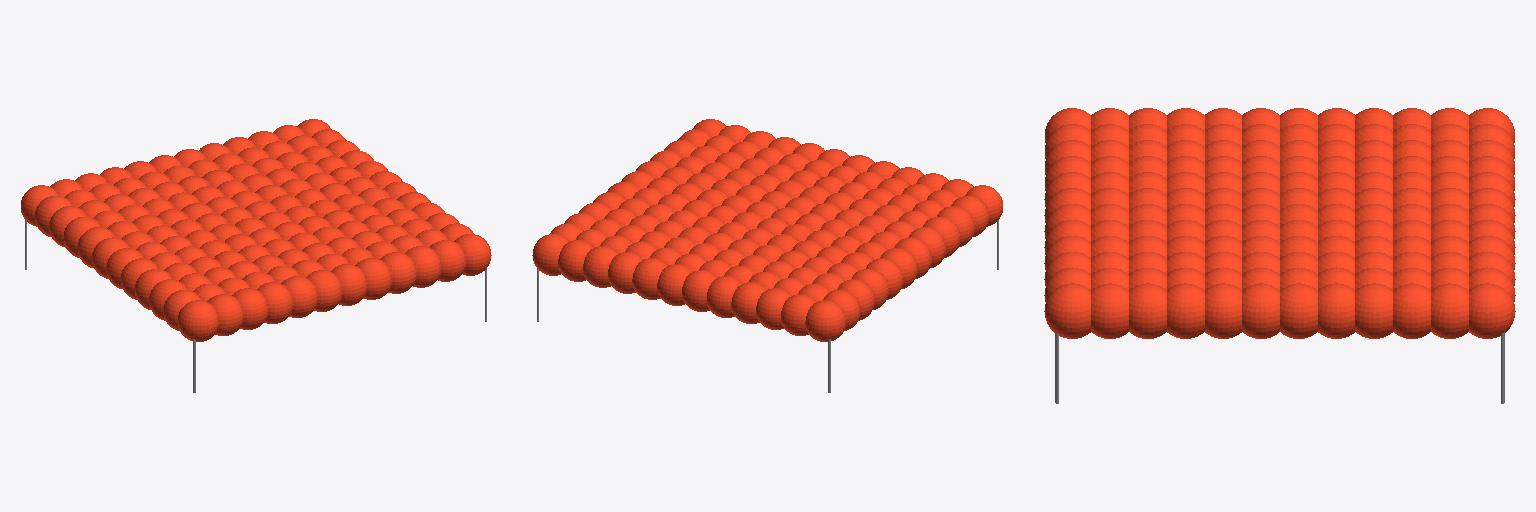
--- Render facts (derived) ---
3 views of the same robot in one strip: view 1: azimuth 30°, elevation 25°; view 2: azimuth 150°, elevation 25°; view 3: azimuth 270°, elevation 25° (orthographic).
Model box with 3 links and 2 joints (2 fixed), rooted at link1, posed every joint at zero.
Links seen in each view (by area): view 1: link3; view 2: link3; view 3: link3, link2.
Link boxes in pixels (x1=…): link3: x1=21, y1=119, x2=491, y2=341; link3: x1=532, y1=119, x2=1002, y2=341; link3: x1=1044, y1=108, x2=1515, y2=338; link2: x1=1055, y1=332, x2=1504, y2=403.
Size in the robot's own frame: 1.25 by 1.25 by 0.324 metres.
Geometry: primitives only (box / cylinder / sphere), no mesh files.

robot.urdf — box:
<?xml version="1.0" ?>
<robot name="box">

    <material name="panda_white">
        <color rgba="1. 0.87 0.68 1."/>
    </material>

    <material name="metal">
        <color rgba="0.6 0.6 0.6 1."/>
    </material>

    <material name="orangered">
        <color rgba="1 0.34 0.2 0.5"/>
    </material>


    <link name="link1">
        <inertial>
            <origin rpy="0 0 0" xyz="0 0 0"/>
            <mass value=".0"/>
            <inertia ixx="0" ixy="0" ixz="0" iyy="0" iyz="0" izz="0"/>
        </inertial>

        <visual>
            <origin rpy="0 0 0" xyz="0.0 0 0.25"/>
            <geometry>
                <box size="1.2 1.2 0.005"/>
            </geometry>
            <material name="panda_white"/>
        </visual>
    </link>

    <link name="link2">
        <inertial>
            <origin rpy="0 0 0" xyz="0 0 0"/>
            <mass value=".0"/>
            <inertia ixx="0" ixy="0" ixz="0" iyy="0" iyz="0" izz="0"/>
        </inertial>

        <visual>
            <origin rpy="0 0 0" xyz="0.59 0.59 0.125"/>
            <geometry>
                <cylinder radius="0.005" length="0.25"/>
            </geometry>
            <material name="metal"/>
        </visual>

        <visual>
            <origin rpy="0 0 0" xyz="0.59 -0.59 0.125"/>
            <geometry>
                <cylinder radius="0.005" length="0.25"/>
            </geometry>
            <material name="metal"/>
        </visual>

        <visual>
            <origin rpy="0 0 0" xyz="-0.59 0.59 0.125"/>
            <geometry>
                <cylinder radius="0.005" length="0.25"/>
            </geometry>
            <material name="metal"/>
        </visual>

        <visual>
            <origin rpy="0 0 0" xyz="-0.59 -0.59 0.125"/>
            <geometry>
                <cylinder radius="0.005" length="0.25"/>
            </geometry>
            <material name="metal"/>
        </visual>

    </link>
    

    <link name="link3">
        <inertial>
            <origin rpy="0 0 0" xyz="0 0 0"/>
            <mass value=".0"/>
            <inertia ixx="0" ixy="0" ixz="0" iyy="0" iyz="0" izz="0"/>
        </inertial>

        <visual>
            <origin rpy="0 0 0" xyz="-0.55 -0.55 0.25"/>
            <geometry>
                <sphere radius="0.074"/>
            </geometry>
            <material name="orangered"/>
        </visual>

        <visual>
            <origin rpy="0 0 0" xyz="-0.45 -0.55 0.25"/>
            <geometry>
                <sphere radius="0.074"/>
            </geometry>
            <material name="orangered"/>
        </visual>

        <visual>
            <origin rpy="0 0 0" xyz="-0.35 -0.55 0.25"/>
            <geometry>
                <sphere radius="0.074"/>
            </geometry>
            <material name="orangered"/>
        </visual>

        <visual>
            <origin rpy="0 0 0" xyz="-0.25 -0.55 0.25"/>
            <geometry>
                <sphere radius="0.074"/>
            </geometry>
            <material name="orangered"/>
        </visual>

        <visual>
            <origin rpy="0 0 0" xyz="-0.15 -0.55 0.25"/>
            <geometry>
                <sphere radius="0.074"/>
            </geometry>
            <material name="orangered"/>
        </visual>

        <visual>
            <origin rpy="0 0 0" xyz="-0.05 -0.55 0.25"/>
            <geometry>
                <sphere radius="0.074"/>
            </geometry>
            <material name="orangered"/>
        </visual>

        <visual>
            <origin rpy="0 0 0" xyz="0.05 -0.55 0.25"/>
            <geometry>
                <sphere radius="0.074"/>
            </geometry>
            <material name="orangered"/>
        </visual>

        <visual>
            <origin rpy="0 0 0" xyz="0.15 -0.55 0.25"/>
            <geometry>
                <sphere radius="0.074"/>
            </geometry>
            <material name="orangered"/>
        </visual>

        <visual>
            <origin rpy="0 0 0" xyz="0.25 -0.55 0.25"/>
            <geometry>
                <sphere radius="0.074"/>
            </geometry>
            <material name="orangered"/>
        </visual>

        <visual>
            <origin rpy="0 0 0" xyz="0.35 -0.55 0.25"/>
            <geometry>
                <sphere radius="0.074"/>
            </geometry>
            <material name="orangered"/>
        </visual>

        <visual>
            <origin rpy="0 0 0" xyz="0.45 -0.55 0.25"/>
            <geometry>
                <sphere radius="0.074"/>
            </geometry>
            <material name="orangered"/>
        </visual>

        <visual>
            <origin rpy="0 0 0" xyz="0.55 -0.55 0.25"/>
            <geometry>
                <sphere radius="0.074"/>
            </geometry>
            <material name="orangered"/>
        </visual>

        <visual>
            <origin rpy="0 0 0" xyz="-0.55 -0.45 0.25"/>
            <geometry>
                <sphere radius="0.074"/>
            </geometry>
            <material name="orangered"/>
        </visual>

        <visual>
            <origin rpy="0 0 0" xyz="-0.45 -0.45 0.25"/>
            <geometry>
                <sphere radius="0.074"/>
            </geometry>
            <material name="orangered"/>
        </visual>

        <visual>
            <origin rpy="0 0 0" xyz="-0.35 -0.45 0.25"/>
            <geometry>
                <sphere radius="0.074"/>
            </geometry>
            <material name="orangered"/>
        </visual>

        <visual>
            <origin rpy="0 0 0" xyz="-0.25 -0.45 0.25"/>
            <geometry>
                <sphere radius="0.074"/>
            </geometry>
            <material name="orangered"/>
        </visual>

        <visual>
            <origin rpy="0 0 0" xyz="-0.15 -0.45 0.25"/>
            <geometry>
                <sphere radius="0.074"/>
            </geometry>
            <material name="orangered"/>
        </visual>

        <visual>
            <origin rpy="0 0 0" xyz="-0.05 -0.45 0.25"/>
            <geometry>
                <sphere radius="0.074"/>
            </geometry>
            <material name="orangered"/>
        </visual>

        <visual>
            <origin rpy="0 0 0" xyz="0.05 -0.45 0.25"/>
            <geometry>
                <sphere radius="0.074"/>
            </geometry>
            <material name="orangered"/>
        </visual>

        <visual>
            <origin rpy="0 0 0" xyz="0.15 -0.45 0.25"/>
            <geometry>
                <sphere radius="0.074"/>
            </geometry>
            <material name="orangered"/>
        </visual>

        <visual>
            <origin rpy="0 0 0" xyz="0.25 -0.45 0.25"/>
            <geometry>
                <sphere radius="0.074"/>
            </geometry>
            <material name="orangered"/>
        </visual>

        <visual>
            <origin rpy="0 0 0" xyz="0.35 -0.45 0.25"/>
            <geometry>
                <sphere radius="0.074"/>
            </geometry>
            <material name="orangered"/>
        </visual>

        <visual>
            <origin rpy="0 0 0" xyz="0.45 -0.45 0.25"/>
            <geometry>
                <sphere radius="0.074"/>
            </geometry>
            <material name="orangered"/>
        </visual>

        <visual>
            <origin rpy="0 0 0" xyz="0.55 -0.45 0.25"/>
            <geometry>
                <sphere radius="0.074"/>
            </geometry>
            <material name="orangered"/>
        </visual>

        <visual>
            <origin rpy="0 0 0" xyz="-0.55 -0.35 0.25"/>
            <geometry>
                <sphere radius="0.074"/>
            </geometry>
            <material name="orangered"/>
        </visual>

        <visual>
            <origin rpy="0 0 0" xyz="-0.45 -0.35 0.25"/>
            <geometry>
                <sphere radius="0.074"/>
            </geometry>
            <material name="orangered"/>
        </visual>

        <visual>
            <origin rpy="0 0 0" xyz="-0.35 -0.35 0.25"/>
            <geometry>
                <sphere radius="0.074"/>
            </geometry>
            <material name="orangered"/>
        </visual>

        <visual>
            <origin rpy="0 0 0" xyz="-0.25 -0.35 0.25"/>
            <geometry>
                <sphere radius="0.074"/>
            </geometry>
            <material name="orangered"/>
        </visual>

        <visual>
            <origin rpy="0 0 0" xyz="-0.15 -0.35 0.25"/>
            <geometry>
                <sphere radius="0.074"/>
            </geometry>
            <material name="orangered"/>
        </visual>

        <visual>
            <origin rpy="0 0 0" xyz="-0.05 -0.35 0.25"/>
            <geometry>
                <sphere radius="0.074"/>
            </geometry>
            <material name="orangered"/>
        </visual>

        <visual>
            <origin rpy="0 0 0" xyz="0.05 -0.35 0.25"/>
            <geometry>
                <sphere radius="0.074"/>
            </geometry>
            <material name="orangered"/>
        </visual>

        <visual>
            <origin rpy="0 0 0" xyz="0.15 -0.35 0.25"/>
            <geometry>
                <sphere radius="0.074"/>
            </geometry>
            <material name="orangered"/>
        </visual>

        <visual>
            <origin rpy="0 0 0" xyz="0.25 -0.35 0.25"/>
            <geometry>
                <sphere radius="0.074"/>
            </geometry>
            <material name="orangered"/>
        </visual>

        <visual>
            <origin rpy="0 0 0" xyz="0.35 -0.35 0.25"/>
            <geometry>
                <sphere radius="0.074"/>
            </geometry>
            <material name="orangered"/>
        </visual>

        <visual>
            <origin rpy="0 0 0" xyz="0.45 -0.35 0.25"/>
            <geometry>
                <sphere radius="0.074"/>
            </geometry>
            <material name="orangered"/>
        </visual>

        <visual>
            <origin rpy="0 0 0" xyz="0.55 -0.35 0.25"/>
            <geometry>
                <sphere radius="0.074"/>
            </geometry>
            <material name="orangered"/>
        </visual>

        <visual>
            <origin rpy="0 0 0" xyz="-0.55 -0.25 0.25"/>
            <geometry>
                <sphere radius="0.074"/>
            </geometry>
            <material name="orangered"/>
        </visual>

        <visual>
            <origin rpy="0 0 0" xyz="-0.45 -0.25 0.25"/>
            <geometry>
                <sphere radius="0.074"/>
            </geometry>
            <material name="orangered"/>
        </visual>

        <visual>
            <origin rpy="0 0 0" xyz="-0.35 -0.25 0.25"/>
            <geometry>
                <sphere radius="0.074"/>
            </geometry>
            <material name="orangered"/>
        </visual>

        <visual>
            <origin rpy="0 0 0" xyz="-0.25 -0.25 0.25"/>
            <geometry>
                <sphere radius="0.074"/>
            </geometry>
            <material name="orangered"/>
        </visual>

        <visual>
            <origin rpy="0 0 0" xyz="-0.15 -0.25 0.25"/>
            <geometry>
                <sphere radius="0.074"/>
            </geometry>
            <material name="orangered"/>
        </visual>

        <visual>
            <origin rpy="0 0 0" xyz="-0.05 -0.25 0.25"/>
            <geometry>
                <sphere radius="0.074"/>
            </geometry>
            <material name="orangered"/>
        </visual>

        <visual>
            <origin rpy="0 0 0" xyz="0.05 -0.25 0.25"/>
            <geometry>
                <sphere radius="0.074"/>
            </geometry>
            <material name="orangered"/>
        </visual>

        <visual>
            <origin rpy="0 0 0" xyz="0.15 -0.25 0.25"/>
            <geometry>
                <sphere radius="0.074"/>
            </geometry>
            <material name="orangered"/>
        </visual>

        <visual>
            <origin rpy="0 0 0" xyz="0.25 -0.25 0.25"/>
            <geometry>
                <sphere radius="0.074"/>
            </geometry>
            <material name="orangered"/>
        </visual>

        <visual>
            <origin rpy="0 0 0" xyz="0.35 -0.25 0.25"/>
            <geometry>
                <sphere radius="0.074"/>
            </geometry>
            <material name="orangered"/>
        </visual>

        <visual>
            <origin rpy="0 0 0" xyz="0.45 -0.25 0.25"/>
            <geometry>
                <sphere radius="0.074"/>
            </geometry>
            <material name="orangered"/>
        </visual>

        <visual>
            <origin rpy="0 0 0" xyz="0.55 -0.25 0.25"/>
            <geometry>
                <sphere radius="0.074"/>
            </geometry>
            <material name="orangered"/>
        </visual>

        <visual>
            <origin rpy="0 0 0" xyz="-0.55 -0.15 0.25"/>
            <geometry>
                <sphere radius="0.074"/>
            </geometry>
            <material name="orangered"/>
        </visual>

        <visual>
            <origin rpy="0 0 0" xyz="-0.45 -0.15 0.25"/>
            <geometry>
                <sphere radius="0.074"/>
            </geometry>
            <material name="orangered"/>
        </visual>

        <visual>
            <origin rpy="0 0 0" xyz="-0.35 -0.15 0.25"/>
            <geometry>
                <sphere radius="0.074"/>
            </geometry>
            <material name="orangered"/>
        </visual>

        <visual>
            <origin rpy="0 0 0" xyz="-0.25 -0.15 0.25"/>
            <geometry>
                <sphere radius="0.074"/>
            </geometry>
            <material name="orangered"/>
        </visual>

        <visual>
            <origin rpy="0 0 0" xyz="-0.15 -0.15 0.25"/>
            <geometry>
                <sphere radius="0.074"/>
            </geometry>
            <material name="orangered"/>
        </visual>

        <visual>
            <origin rpy="0 0 0" xyz="-0.05 -0.15 0.25"/>
            <geometry>
                <sphere radius="0.074"/>
            </geometry>
            <material name="orangered"/>
        </visual>

        <visual>
            <origin rpy="0 0 0" xyz="0.05 -0.15 0.25"/>
            <geometry>
                <sphere radius="0.074"/>
            </geometry>
            <material name="orangered"/>
        </visual>

        <visual>
            <origin rpy="0 0 0" xyz="0.15 -0.15 0.25"/>
            <geometry>
                <sphere radius="0.074"/>
            </geometry>
            <material name="orangered"/>
        </visual>

        <visual>
            <origin rpy="0 0 0" xyz="0.25 -0.15 0.25"/>
            <geometry>
                <sphere radius="0.074"/>
            </geometry>
            <material name="orangered"/>
        </visual>

        <visual>
            <origin rpy="0 0 0" xyz="0.35 -0.15 0.25"/>
            <geometry>
                <sphere radius="0.074"/>
            </geometry>
            <material name="orangered"/>
        </visual>

        <visual>
            <origin rpy="0 0 0" xyz="0.45 -0.15 0.25"/>
            <geometry>
                <sphere radius="0.074"/>
            </geometry>
            <material name="orangered"/>
        </visual>

        <visual>
            <origin rpy="0 0 0" xyz="0.55 -0.15 0.25"/>
            <geometry>
                <sphere radius="0.074"/>
            </geometry>
            <material name="orangered"/>
        </visual>

        <visual>
            <origin rpy="0 0 0" xyz="-0.55 -0.05 0.25"/>
            <geometry>
                <sphere radius="0.074"/>
            </geometry>
            <material name="orangered"/>
        </visual>

        <visual>
            <origin rpy="0 0 0" xyz="-0.45 -0.05 0.25"/>
            <geometry>
                <sphere radius="0.074"/>
            </geometry>
            <material name="orangered"/>
        </visual>

        <visual>
            <origin rpy="0 0 0" xyz="-0.35 -0.05 0.25"/>
            <geometry>
                <sphere radius="0.074"/>
            </geometry>
            <material name="orangered"/>
        </visual>

        <visual>
            <origin rpy="0 0 0" xyz="-0.25 -0.05 0.25"/>
            <geometry>
                <sphere radius="0.074"/>
            </geometry>
            <material name="orangered"/>
        </visual>

        <visual>
            <origin rpy="0 0 0" xyz="-0.15 -0.05 0.25"/>
            <geometry>
                <sphere radius="0.074"/>
            </geometry>
            <material name="orangered"/>
        </visual>

        <visual>
            <origin rpy="0 0 0" xyz="-0.05 -0.05 0.25"/>
            <geometry>
                <sphere radius="0.074"/>
            </geometry>
            <material name="orangered"/>
        </visual>

        <visual>
            <origin rpy="0 0 0" xyz="0.05 -0.05 0.25"/>
            <geometry>
                <sphere radius="0.074"/>
            </geometry>
            <material name="orangered"/>
        </visual>

        <visual>
            <origin rpy="0 0 0" xyz="0.15 -0.05 0.25"/>
            <geometry>
                <sphere radius="0.074"/>
            </geometry>
            <material name="orangered"/>
        </visual>

        <visual>
            <origin rpy="0 0 0" xyz="0.25 -0.05 0.25"/>
            <geometry>
                <sphere radius="0.074"/>
            </geometry>
            <material name="orangered"/>
        </visual>

        <visual>
            <origin rpy="0 0 0" xyz="0.35 -0.05 0.25"/>
            <geometry>
                <sphere radius="0.074"/>
            </geometry>
            <material name="orangered"/>
        </visual>

        <visual>
            <origin rpy="0 0 0" xyz="0.45 -0.05 0.25"/>
            <geometry>
                <sphere radius="0.074"/>
            </geometry>
            <material name="orangered"/>
        </visual>

        <visual>
            <origin rpy="0 0 0" xyz="0.55 -0.05 0.25"/>
            <geometry>
                <sphere radius="0.074"/>
            </geometry>
            <material name="orangered"/>
        </visual>

        <visual>
            <origin rpy="0 0 0" xyz="-0.55 0.05 0.25"/>
            <geometry>
                <sphere radius="0.074"/>
            </geometry>
            <material name="orangered"/>
        </visual>

        <visual>
            <origin rpy="0 0 0" xyz="-0.45 0.05 0.25"/>
            <geometry>
                <sphere radius="0.074"/>
            </geometry>
            <material name="orangered"/>
        </visual>

        <visual>
            <origin rpy="0 0 0" xyz="-0.35 0.05 0.25"/>
            <geometry>
                <sphere radius="0.074"/>
            </geometry>
            <material name="orangered"/>
        </visual>

        <visual>
            <origin rpy="0 0 0" xyz="-0.25 0.05 0.25"/>
            <geometry>
                <sphere radius="0.074"/>
            </geometry>
            <material name="orangered"/>
        </visual>

        <visual>
            <origin rpy="0 0 0" xyz="-0.15 0.05 0.25"/>
            <geometry>
                <sphere radius="0.074"/>
            </geometry>
            <material name="orangered"/>
        </visual>

        <visual>
            <origin rpy="0 0 0" xyz="-0.05 0.05 0.25"/>
            <geometry>
                <sphere radius="0.074"/>
            </geometry>
            <material name="orangered"/>
        </visual>

        <visual>
            <origin rpy="0 0 0" xyz="0.05 0.05 0.25"/>
            <geometry>
                <sphere radius="0.074"/>
            </geometry>
            <material name="orangered"/>
        </visual>

        <visual>
            <origin rpy="0 0 0" xyz="0.15 0.05 0.25"/>
            <geometry>
                <sphere radius="0.074"/>
            </geometry>
            <material name="orangered"/>
        </visual>

        <visual>
            <origin rpy="0 0 0" xyz="0.25 0.05 0.25"/>
            <geometry>
                <sphere radius="0.074"/>
            </geometry>
            <material name="orangered"/>
        </visual>

        <visual>
            <origin rpy="0 0 0" xyz="0.35 0.05 0.25"/>
            <geometry>
                <sphere radius="0.074"/>
            </geometry>
            <material name="orangered"/>
        </visual>

        <visual>
            <origin rpy="0 0 0" xyz="0.45 0.05 0.25"/>
            <geometry>
                <sphere radius="0.074"/>
            </geometry>
            <material name="orangered"/>
        </visual>

        <visual>
            <origin rpy="0 0 0" xyz="0.55 0.05 0.25"/>
            <geometry>
                <sphere radius="0.074"/>
            </geometry>
            <material name="orangered"/>
        </visual>

        <visual>
            <origin rpy="0 0 0" xyz="-0.55 0.15 0.25"/>
            <geometry>
                <sphere radius="0.074"/>
            </geometry>
            <material name="orangered"/>
        </visual>

        <visual>
            <origin rpy="0 0 0" xyz="-0.45 0.15 0.25"/>
            <geometry>
                <sphere radius="0.074"/>
            </geometry>
            <material name="orangered"/>
        </visual>

        <visual>
            <origin rpy="0 0 0" xyz="-0.35 0.15 0.25"/>
            <geometry>
                <sphere radius="0.074"/>
            </geometry>
            <material name="orangered"/>
        </visual>

        <visual>
            <origin rpy="0 0 0" xyz="-0.25 0.15 0.25"/>
            <geometry>
                <sphere radius="0.074"/>
            </geometry>
            <material name="orangered"/>
        </visual>

        <visual>
            <origin rpy="0 0 0" xyz="-0.15 0.15 0.25"/>
            <geometry>
                <sphere radius="0.074"/>
            </geometry>
            <material name="orangered"/>
        </visual>

        <visual>
            <origin rpy="0 0 0" xyz="-0.05 0.15 0.25"/>
            <geometry>
                <sphere radius="0.074"/>
            </geometry>
            <material name="orangered"/>
        </visual>

        <visual>
            <origin rpy="0 0 0" xyz="0.05 0.15 0.25"/>
            <geometry>
                <sphere radius="0.074"/>
            </geometry>
            <material name="orangered"/>
        </visual>

        <visual>
            <origin rpy="0 0 0" xyz="0.15 0.15 0.25"/>
            <geometry>
                <sphere radius="0.074"/>
            </geometry>
            <material name="orangered"/>
        </visual>

        <visual>
            <origin rpy="0 0 0" xyz="0.25 0.15 0.25"/>
            <geometry>
                <sphere radius="0.074"/>
            </geometry>
            <material name="orangered"/>
        </visual>

        <visual>
            <origin rpy="0 0 0" xyz="0.35 0.15 0.25"/>
            <geometry>
                <sphere radius="0.074"/>
            </geometry>
            <material name="orangered"/>
        </visual>

        <visual>
            <origin rpy="0 0 0" xyz="0.45 0.15 0.25"/>
            <geometry>
                <sphere radius="0.074"/>
            </geometry>
            <material name="orangered"/>
        </visual>

        <visual>
            <origin rpy="0 0 0" xyz="0.55 0.15 0.25"/>
            <geometry>
                <sphere radius="0.074"/>
            </geometry>
            <material name="orangered"/>
        </visual>

        <visual>
            <origin rpy="0 0 0" xyz="-0.55 0.25 0.25"/>
            <geometry>
                <sphere radius="0.074"/>
            </geometry>
            <material name="orangered"/>
        </visual>

        <visual>
            <origin rpy="0 0 0" xyz="-0.45 0.25 0.25"/>
            <geometry>
                <sphere radius="0.074"/>
            </geometry>
            <material name="orangered"/>
        </visual>

        <visual>
            <origin rpy="0 0 0" xyz="-0.35 0.25 0.25"/>
            <geometry>
                <sphere radius="0.074"/>
            </geometry>
            <material name="orangered"/>
        </visual>

        <visual>
            <origin rpy="0 0 0" xyz="-0.25 0.25 0.25"/>
            <geometry>
                <sphere radius="0.074"/>
            </geometry>
            <material name="orangered"/>
        </visual>

        <visual>
            <origin rpy="0 0 0" xyz="-0.15 0.25 0.25"/>
            <geometry>
                <sphere radius="0.074"/>
            </geometry>
            <material name="orangered"/>
        </visual>

        <visual>
            <origin rpy="0 0 0" xyz="-0.05 0.25 0.25"/>
            <geometry>
                <sphere radius="0.074"/>
            </geometry>
            <material name="orangered"/>
        </visual>

        <visual>
            <origin rpy="0 0 0" xyz="0.05 0.25 0.25"/>
            <geometry>
                <sphere radius="0.074"/>
            </geometry>
            <material name="orangered"/>
        </visual>

        <visual>
            <origin rpy="0 0 0" xyz="0.15 0.25 0.25"/>
            <geometry>
                <sphere radius="0.074"/>
            </geometry>
            <material name="orangered"/>
        </visual>

        <visual>
            <origin rpy="0 0 0" xyz="0.25 0.25 0.25"/>
            <geometry>
                <sphere radius="0.074"/>
            </geometry>
            <material name="orangered"/>
        </visual>

        <visual>
            <origin rpy="0 0 0" xyz="0.35 0.25 0.25"/>
            <geometry>
                <sphere radius="0.074"/>
            </geometry>
            <material name="orangered"/>
        </visual>

        <visual>
            <origin rpy="0 0 0" xyz="0.45 0.25 0.25"/>
            <geometry>
                <sphere radius="0.074"/>
            </geometry>
            <material name="orangered"/>
        </visual>

        <visual>
            <origin rpy="0 0 0" xyz="0.55 0.25 0.25"/>
            <geometry>
                <sphere radius="0.074"/>
            </geometry>
            <material name="orangered"/>
        </visual>

        <visual>
            <origin rpy="0 0 0" xyz="-0.55 0.35 0.25"/>
            <geometry>
                <sphere radius="0.074"/>
            </geometry>
            <material name="orangered"/>
        </visual>

        <visual>
            <origin rpy="0 0 0" xyz="-0.45 0.35 0.25"/>
            <geometry>
                <sphere radius="0.074"/>
            </geometry>
            <material name="orangered"/>
        </visual>

        <visual>
            <origin rpy="0 0 0" xyz="-0.35 0.35 0.25"/>
            <geometry>
                <sphere radius="0.074"/>
            </geometry>
            <material name="orangered"/>
        </visual>

        <visual>
            <origin rpy="0 0 0" xyz="-0.25 0.35 0.25"/>
            <geometry>
                <sphere radius="0.074"/>
            </geometry>
            <material name="orangered"/>
        </visual>

        <visual>
            <origin rpy="0 0 0" xyz="-0.15 0.35 0.25"/>
            <geometry>
                <sphere radius="0.074"/>
            </geometry>
            <material name="orangered"/>
        </visual>

        <visual>
            <origin rpy="0 0 0" xyz="-0.05 0.35 0.25"/>
            <geometry>
                <sphere radius="0.074"/>
            </geometry>
            <material name="orangered"/>
        </visual>

        <visual>
            <origin rpy="0 0 0" xyz="0.05 0.35 0.25"/>
            <geometry>
                <sphere radius="0.074"/>
            </geometry>
            <material name="orangered"/>
        </visual>

        <visual>
            <origin rpy="0 0 0" xyz="0.15 0.35 0.25"/>
            <geometry>
                <sphere radius="0.074"/>
            </geometry>
            <material name="orangered"/>
        </visual>

        <visual>
            <origin rpy="0 0 0" xyz="0.25 0.35 0.25"/>
            <geometry>
                <sphere radius="0.074"/>
            </geometry>
            <material name="orangered"/>
        </visual>

        <visual>
            <origin rpy="0 0 0" xyz="0.35 0.35 0.25"/>
            <geometry>
                <sphere radius="0.074"/>
            </geometry>
            <material name="orangered"/>
        </visual>

        <visual>
            <origin rpy="0 0 0" xyz="0.45 0.35 0.25"/>
            <geometry>
                <sphere radius="0.074"/>
            </geometry>
            <material name="orangered"/>
        </visual>

        <visual>
            <origin rpy="0 0 0" xyz="0.55 0.35 0.25"/>
            <geometry>
                <sphere radius="0.074"/>
            </geometry>
            <material name="orangered"/>
        </visual>

        <visual>
            <origin rpy="0 0 0" xyz="-0.55 0.45 0.25"/>
            <geometry>
                <sphere radius="0.074"/>
            </geometry>
            <material name="orangered"/>
        </visual>

        <visual>
            <origin rpy="0 0 0" xyz="-0.45 0.45 0.25"/>
            <geometry>
                <sphere radius="0.074"/>
            </geometry>
            <material name="orangered"/>
        </visual>

        <visual>
            <origin rpy="0 0 0" xyz="-0.35 0.45 0.25"/>
            <geometry>
                <sphere radius="0.074"/>
            </geometry>
            <material name="orangered"/>
        </visual>

        <visual>
            <origin rpy="0 0 0" xyz="-0.25 0.45 0.25"/>
            <geometry>
                <sphere radius="0.074"/>
            </geometry>
            <material name="orangered"/>
        </visual>

        <visual>
            <origin rpy="0 0 0" xyz="-0.15 0.45 0.25"/>
            <geometry>
                <sphere radius="0.074"/>
            </geometry>
            <material name="orangered"/>
        </visual>

        <visual>
            <origin rpy="0 0 0" xyz="-0.05 0.45 0.25"/>
            <geometry>
                <sphere radius="0.074"/>
            </geometry>
            <material name="orangered"/>
        </visual>

        <visual>
            <origin rpy="0 0 0" xyz="0.05 0.45 0.25"/>
            <geometry>
                <sphere radius="0.074"/>
            </geometry>
            <material name="orangered"/>
        </visual>

        <visual>
            <origin rpy="0 0 0" xyz="0.15 0.45 0.25"/>
            <geometry>
                <sphere radius="0.074"/>
            </geometry>
            <material name="orangered"/>
        </visual>

        <visual>
            <origin rpy="0 0 0" xyz="0.25 0.45 0.25"/>
            <geometry>
                <sphere radius="0.074"/>
            </geometry>
            <material name="orangered"/>
        </visual>

        <visual>
            <origin rpy="0 0 0" xyz="0.35 0.45 0.25"/>
            <geometry>
                <sphere radius="0.074"/>
            </geometry>
            <material name="orangered"/>
        </visual>

        <visual>
            <origin rpy="0 0 0" xyz="0.45 0.45 0.25"/>
            <geometry>
                <sphere radius="0.074"/>
            </geometry>
            <material name="orangered"/>
        </visual>

        <visual>
            <origin rpy="0 0 0" xyz="0.55 0.45 0.25"/>
            <geometry>
                <sphere radius="0.074"/>
            </geometry>
            <material name="orangered"/>
        </visual>

        <visual>
            <origin rpy="0 0 0" xyz="-0.55 0.55 0.25"/>
            <geometry>
                <sphere radius="0.074"/>
            </geometry>
            <material name="orangered"/>
        </visual>

        <visual>
            <origin rpy="0 0 0" xyz="-0.45 0.55 0.25"/>
            <geometry>
                <sphere radius="0.074"/>
            </geometry>
            <material name="orangered"/>
        </visual>

        <visual>
            <origin rpy="0 0 0" xyz="-0.35 0.55 0.25"/>
            <geometry>
                <sphere radius="0.074"/>
            </geometry>
            <material name="orangered"/>
        </visual>

        <visual>
            <origin rpy="0 0 0" xyz="-0.25 0.55 0.25"/>
            <geometry>
                <sphere radius="0.074"/>
            </geometry>
            <material name="orangered"/>
        </visual>

        <visual>
            <origin rpy="0 0 0" xyz="-0.15 0.55 0.25"/>
            <geometry>
                <sphere radius="0.074"/>
            </geometry>
            <material name="orangered"/>
        </visual>

        <visual>
            <origin rpy="0 0 0" xyz="-0.05 0.55 0.25"/>
            <geometry>
                <sphere radius="0.074"/>
            </geometry>
            <material name="orangered"/>
        </visual>

        <visual>
            <origin rpy="0 0 0" xyz="0.05 0.55 0.25"/>
            <geometry>
                <sphere radius="0.074"/>
            </geometry>
            <material name="orangered"/>
        </visual>

        <visual>
            <origin rpy="0 0 0" xyz="0.15 0.55 0.25"/>
            <geometry>
                <sphere radius="0.074"/>
            </geometry>
            <material name="orangered"/>
        </visual>

        <visual>
            <origin rpy="0 0 0" xyz="0.25 0.55 0.25"/>
            <geometry>
                <sphere radius="0.074"/>
            </geometry>
            <material name="orangered"/>
        </visual>

        <visual>
            <origin rpy="0 0 0" xyz="0.35 0.55 0.25"/>
            <geometry>
                <sphere radius="0.074"/>
            </geometry>
            <material name="orangered"/>
        </visual>

        <visual>
            <origin rpy="0 0 0" xyz="0.45 0.55 0.25"/>
            <geometry>
                <sphere radius="0.074"/>
            </geometry>
            <material name="orangered"/>
        </visual>

        <visual>
            <origin rpy="0 0 0" xyz="0.55 0.55 0.25"/>
            <geometry>
                <sphere radius="0.074"/>
            </geometry>
            <material name="orangered"/>
        </visual>

    </link>
    

    <joint name="fixed_joint" type="fixed">
        <parent link="link1"/>
        <child link="link2"/>
        <origin xyz="0 0 0" rpy="0 0 0"/>
    </joint>

    <joint name="fixed_joint2" type="fixed">
        <parent link="link1"/>
        <child link="link3"/>
        <origin xyz="0 0 0" rpy="0 0 0"/>
    </joint>
    

</robot>
